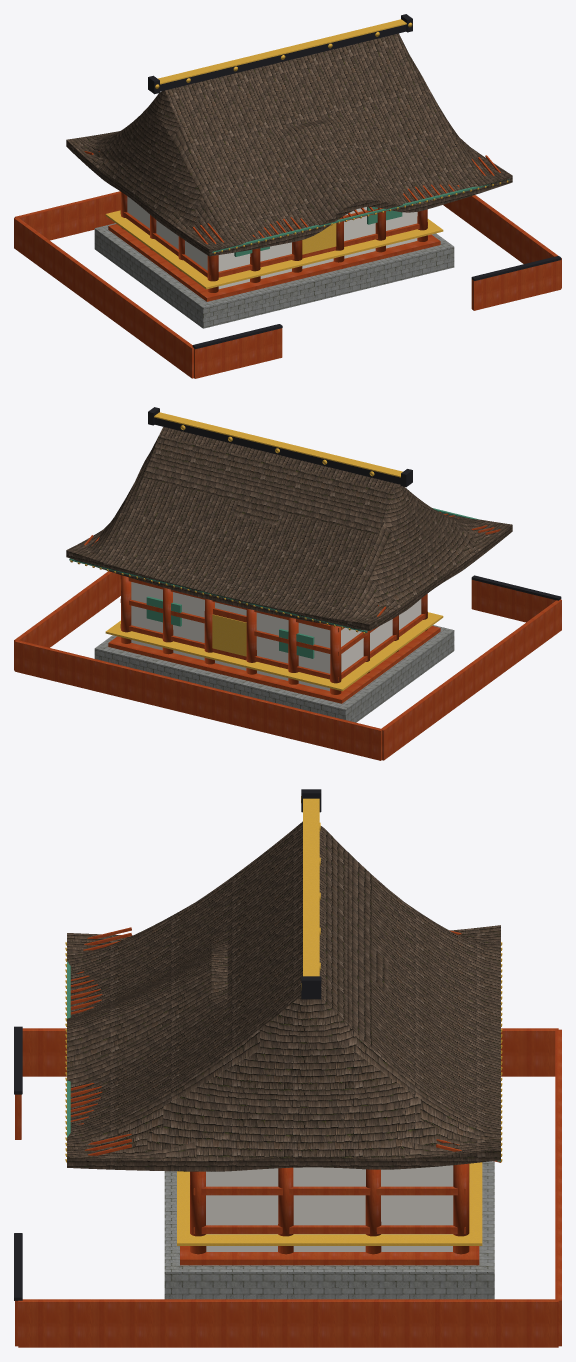
The model's file is honden.glb.
The picture shows the model from 3 angles, top to bottom: view 1: azimuth 30°, elevation 25°; view 2: azimuth 150°, elevation 25°; view 3: azimuth 270°, elevation 25°; orthographic projection. The views are drawn at different scales.
Visible parts, largest first — view 1: MAT_Hiwadabuki_Bark_Roof, MAT_Vermilion_ShuIro, MAT_Granite_Stone_Moss, MAT_Gold_Kanagu_Leaf, MAT_White_Shikku_Plaster, MAT_Black_Lacquer_Nemaki, MAT_Copper_Patina_Green; view 2: MAT_Hiwadabuki_Bark_Roof, MAT_Vermilion_ShuIro, MAT_Granite_Stone_Moss, MAT_Gold_Kanagu_Leaf, MAT_White_Shikku_Plaster, MAT_Black_Lacquer_Nemaki, MAT_Copper_Patina_Green; view 3: MAT_Hiwadabuki_Bark_Roof, MAT_Vermilion_ShuIro, MAT_Granite_Stone_Moss, MAT_White_Shikku_Plaster, MAT_Gold_Kanagu_Leaf, MAT_Black_Lacquer_Nemaki.
Part boxes in pixels (bbox=[...]): MAT_Hiwadabuki_Bark_Roof: bbox=[66, 33, 512, 256]; MAT_Vermilion_ShuIro: bbox=[14, 151, 561, 378]; MAT_Granite_Stone_Moss: bbox=[94, 223, 454, 328]; MAT_Gold_Kanagu_Leaf: bbox=[105, 19, 508, 289]; MAT_White_Shikku_Plaster: bbox=[127, 196, 417, 289]; MAT_Black_Lacquer_Nemaki: bbox=[148, 14, 561, 349]; MAT_Copper_Patina_Green: bbox=[212, 179, 509, 256]; MAT_Hiwadabuki_Bark_Roof: bbox=[66, 427, 512, 630]; MAT_Vermilion_ShuIro: bbox=[14, 511, 561, 760]; MAT_Granite_Stone_Moss: bbox=[94, 625, 454, 722]; MAT_Gold_Kanagu_Leaf: bbox=[70, 412, 443, 691]; MAT_White_Shikku_Plaster: bbox=[131, 582, 421, 690]; MAT_Black_Lacquer_Nemaki: bbox=[148, 407, 561, 600]; MAT_Copper_Patina_Green: bbox=[69, 508, 479, 658]; MAT_Hiwadabuki_Bark_Roof: bbox=[67, 821, 500, 1171]; MAT_Vermilion_ShuIro: bbox=[15, 927, 561, 1347]; MAT_Granite_Stone_Moss: bbox=[164, 1161, 494, 1299]; MAT_White_Shikku_Plaster: bbox=[206, 1165, 453, 1251]; MAT_Gold_Kanagu_Leaf: bbox=[65, 796, 502, 1245]; MAT_Black_Lacquer_Nemaki: bbox=[14, 789, 321, 1300].
Bounding box in the file's own units: 21.22 × 11.78 × 17.95.
Materials: 7 (4 with a texture image).
